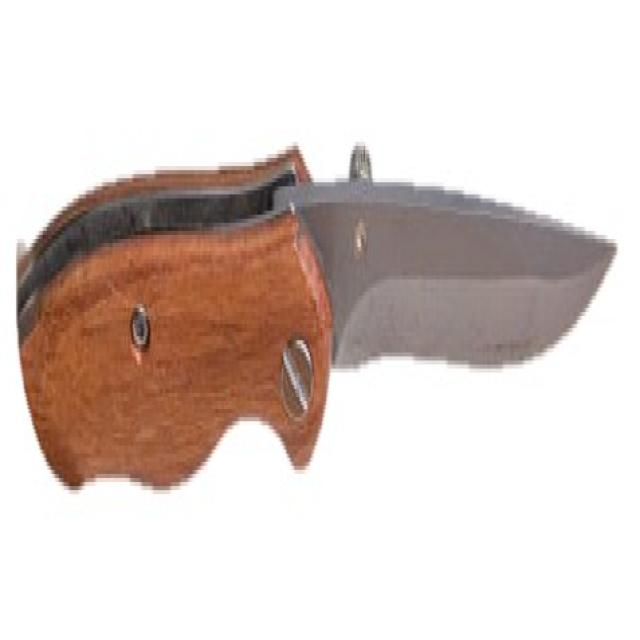knife: (11, 133, 623, 513)
